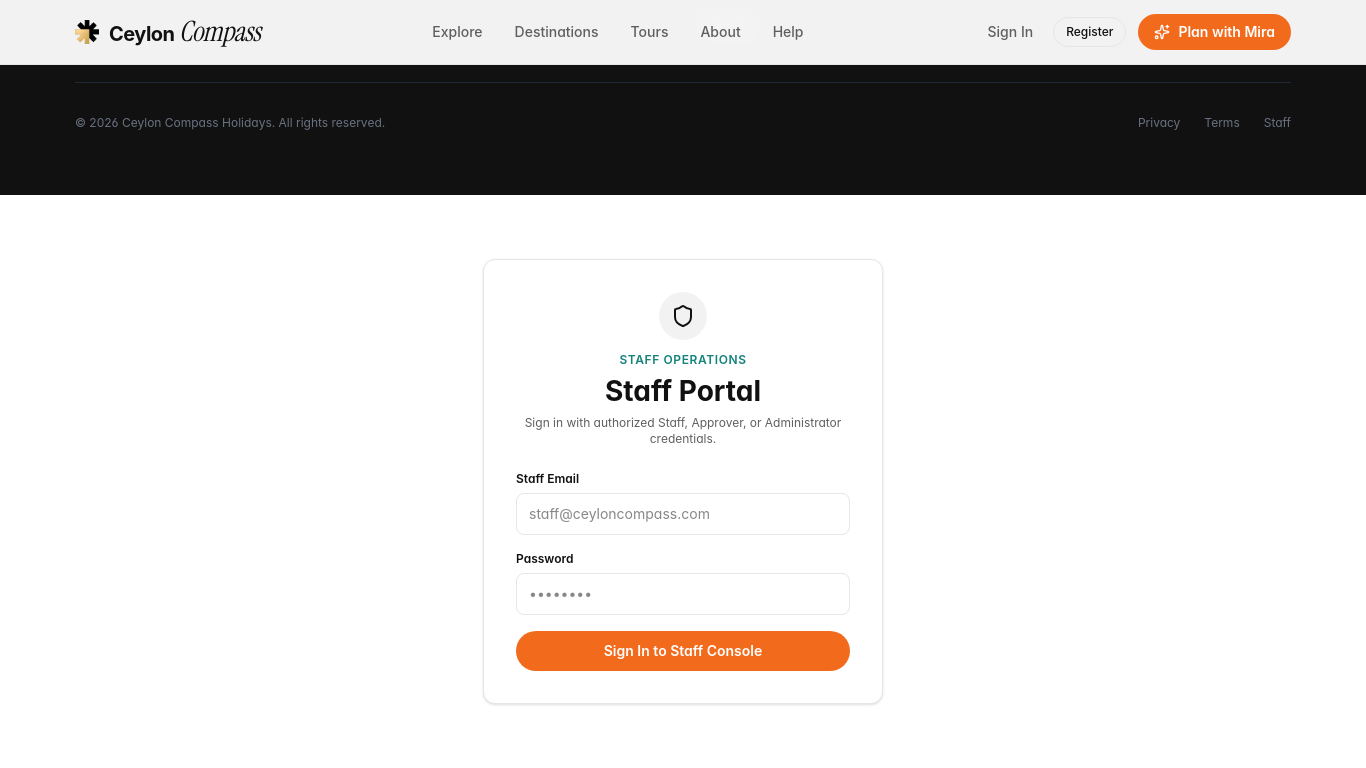
StaffConsole Login Gate › shows error on invalid credentials
(page scrolled)
Type "wrong@test.com" into the field labelled "Staff Email" at (683, 514), box [516, 493, 850, 535]
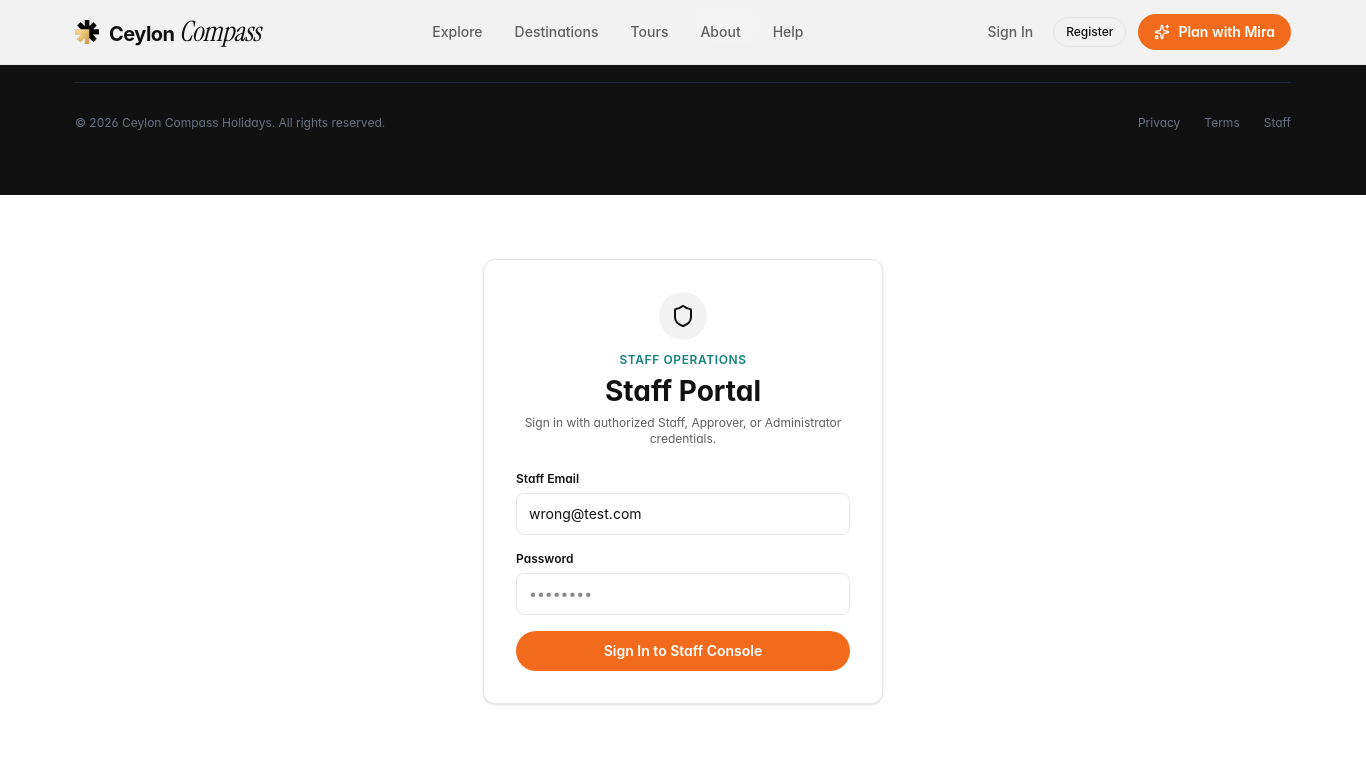
Type "wrongpass" into the password field labelled "Password" at (683, 594), box [516, 573, 850, 615]
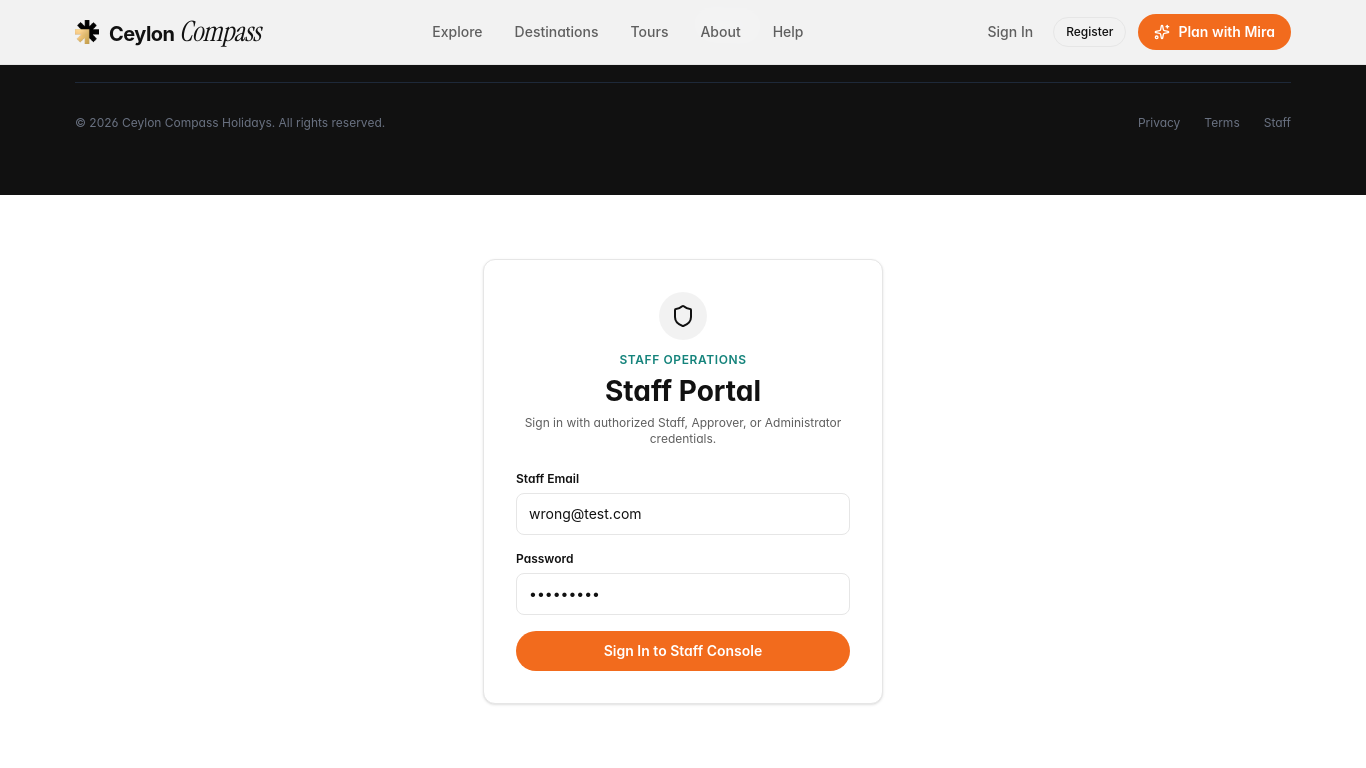
Click the button "Sign In to Staff Console" at (683, 651), box [516, 631, 850, 671]
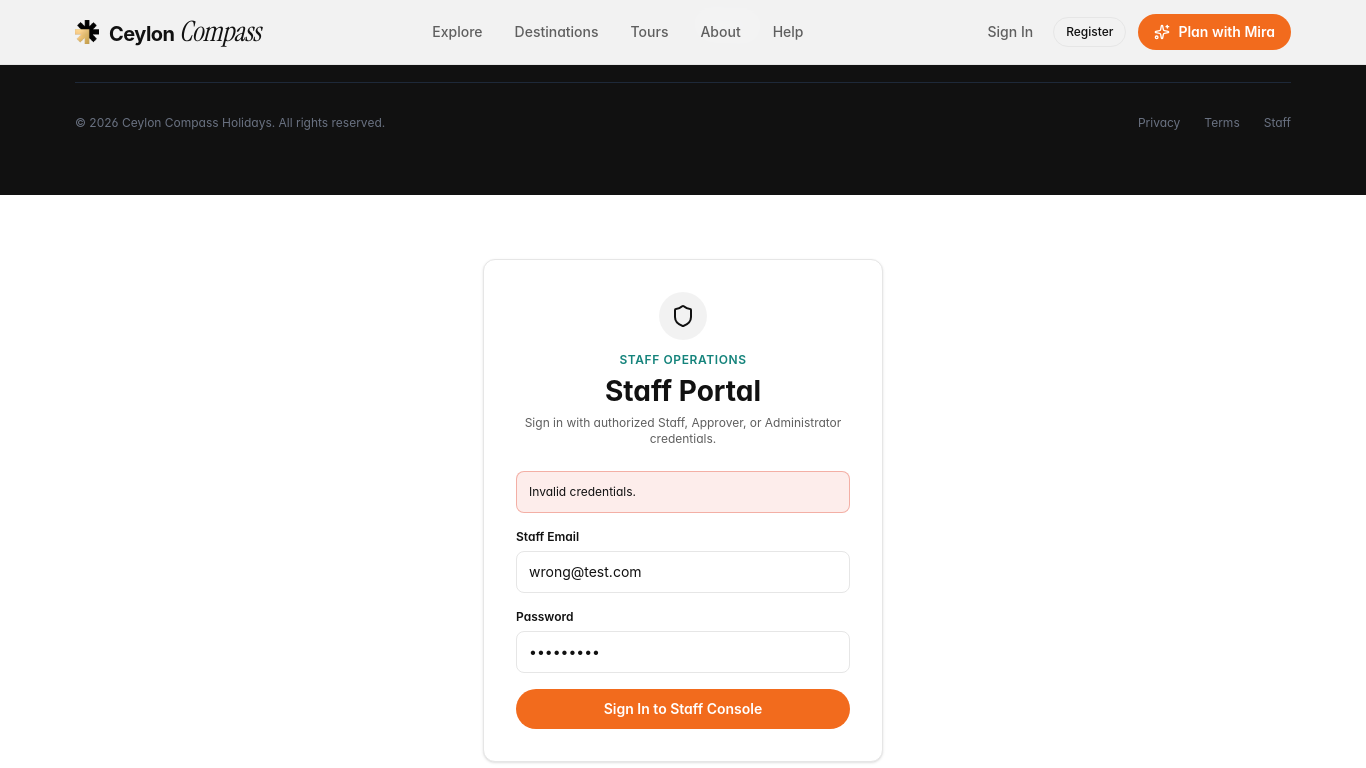
Result: the text "Invalid credentials." is shown at [516, 471, 850, 513]
